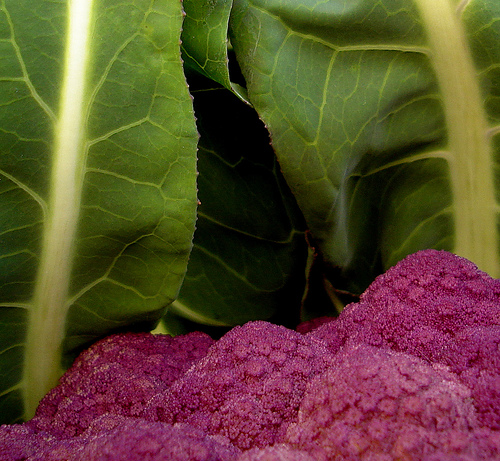cauliflower: (0, 251, 498, 459)
